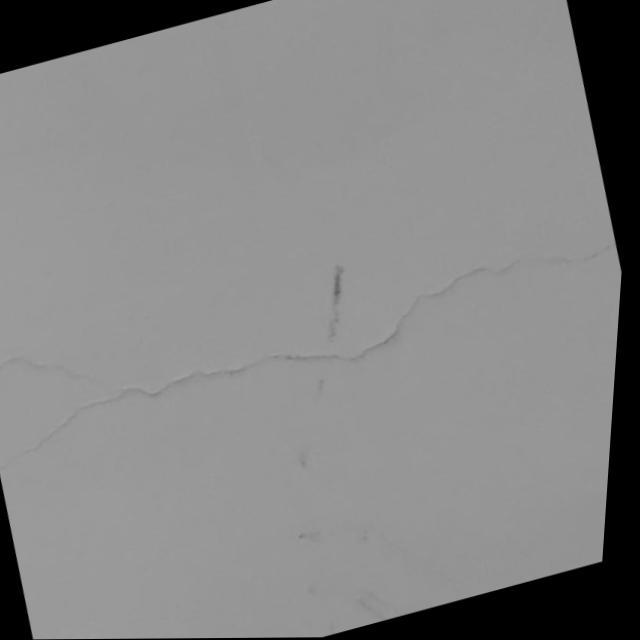Crack: (5, 341, 386, 461)
